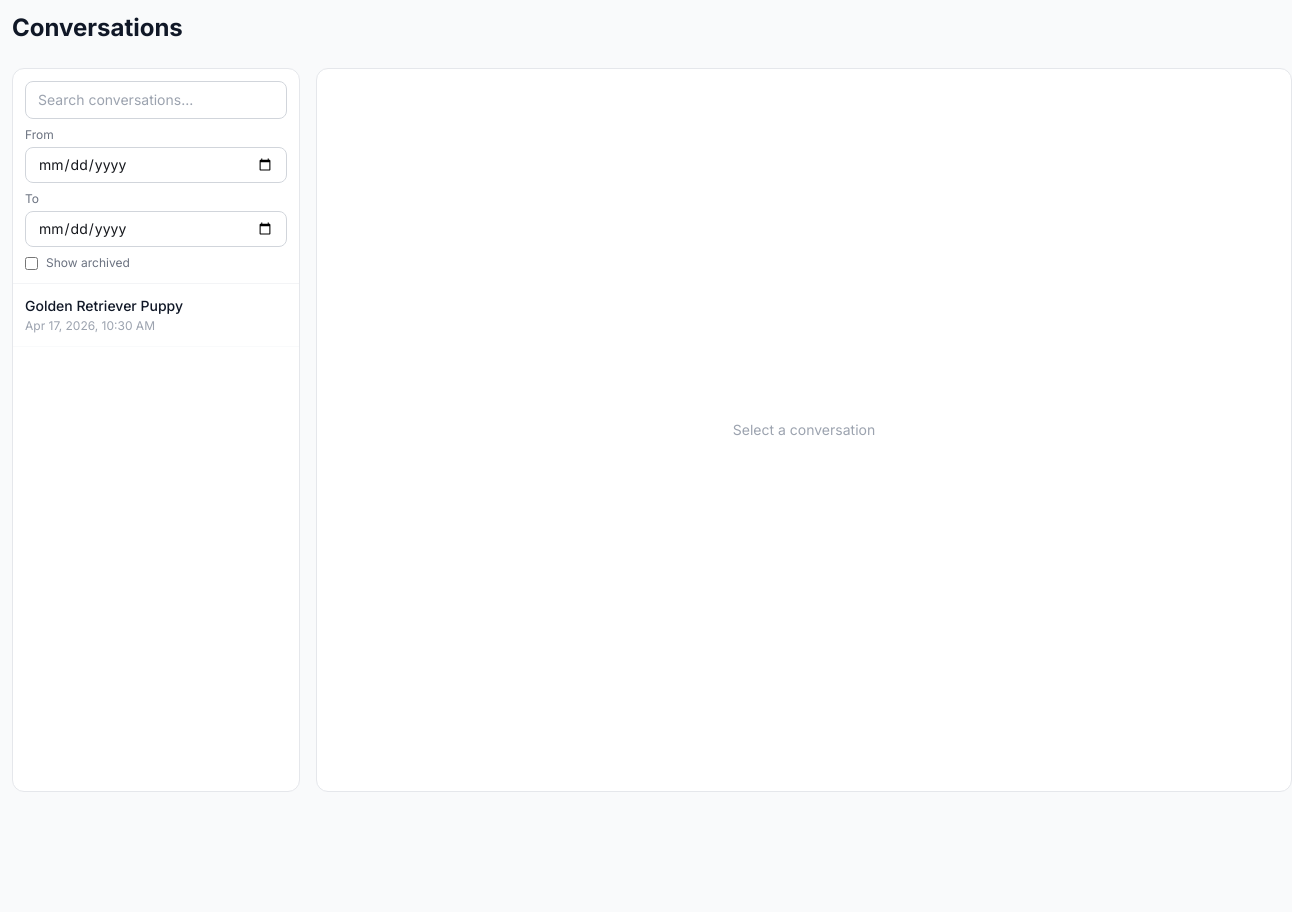
Test: Conversations — internal note message visibility › shopper cannot see the internal note message
Step 1. Click the text "Golden Retriever Puppy" → (104, 306), box top-left (25, 297), bottom-right (183, 314)
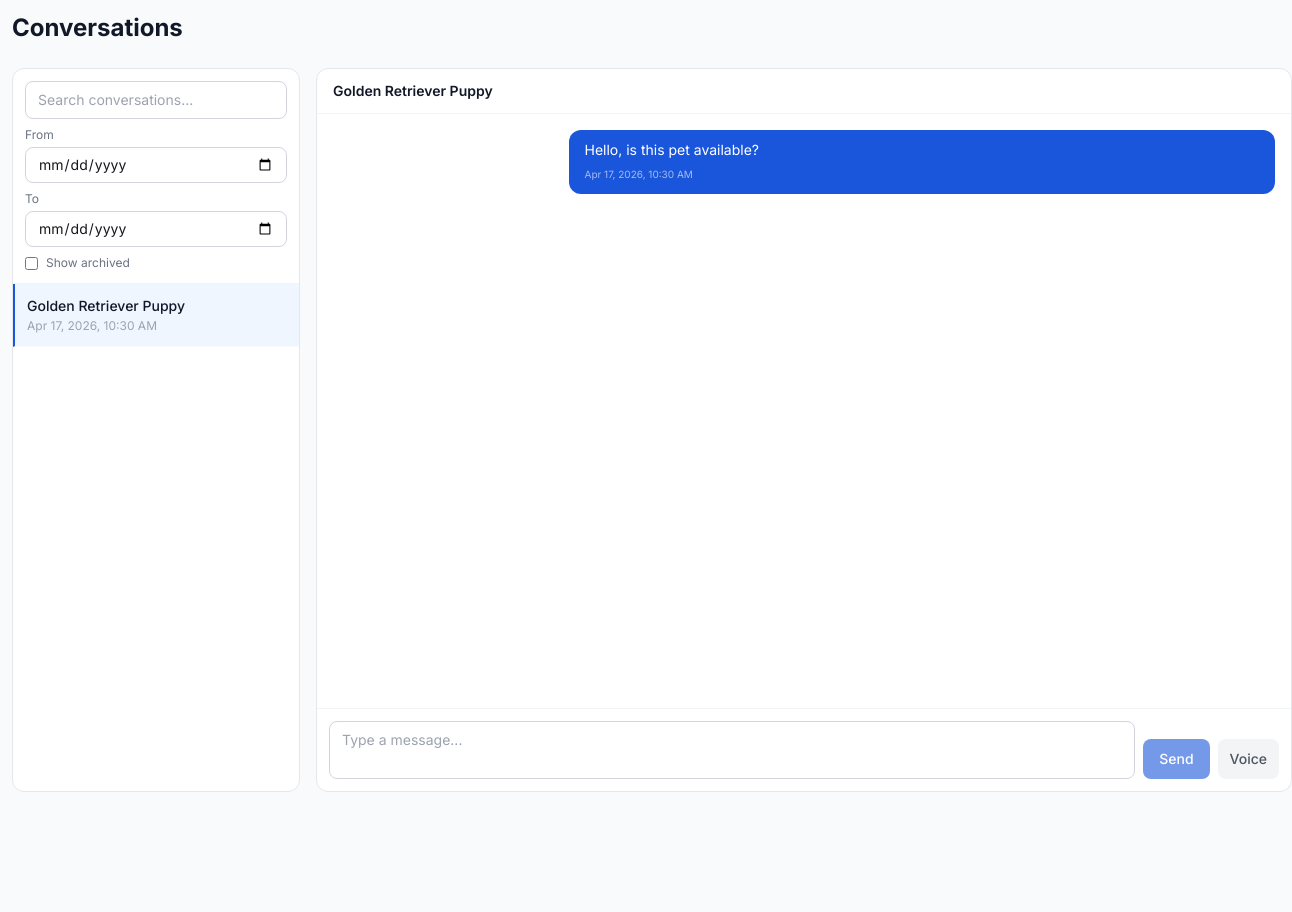
Expected: the text "Hello, is this pet available?" is shown, top-left (584, 141), bottom-right (759, 158)
